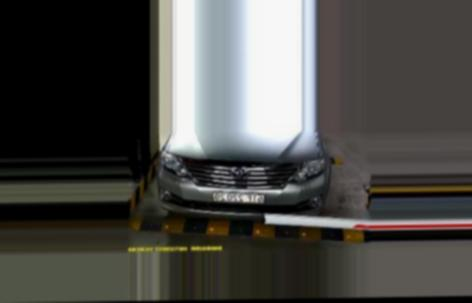License_Plate: (211, 191, 265, 205)
